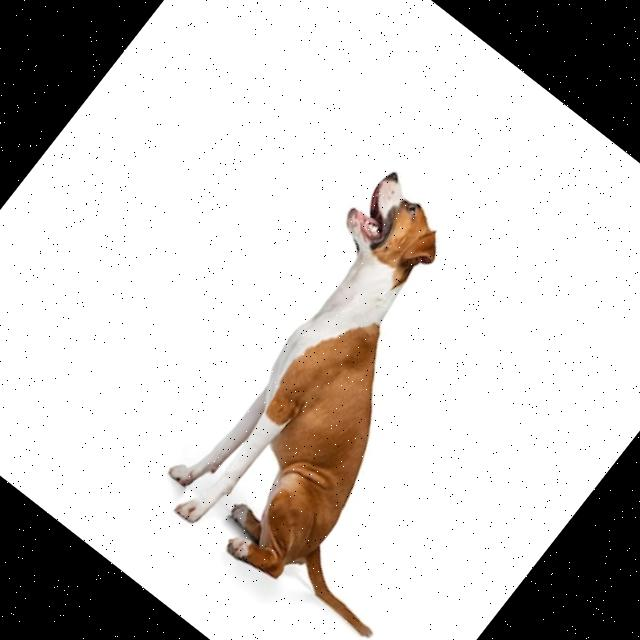Dog: (136, 163, 607, 640)
